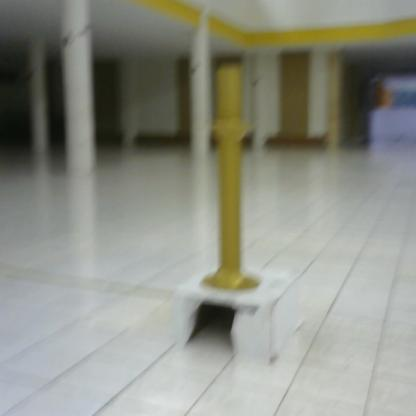pole: (189, 65, 270, 303)
